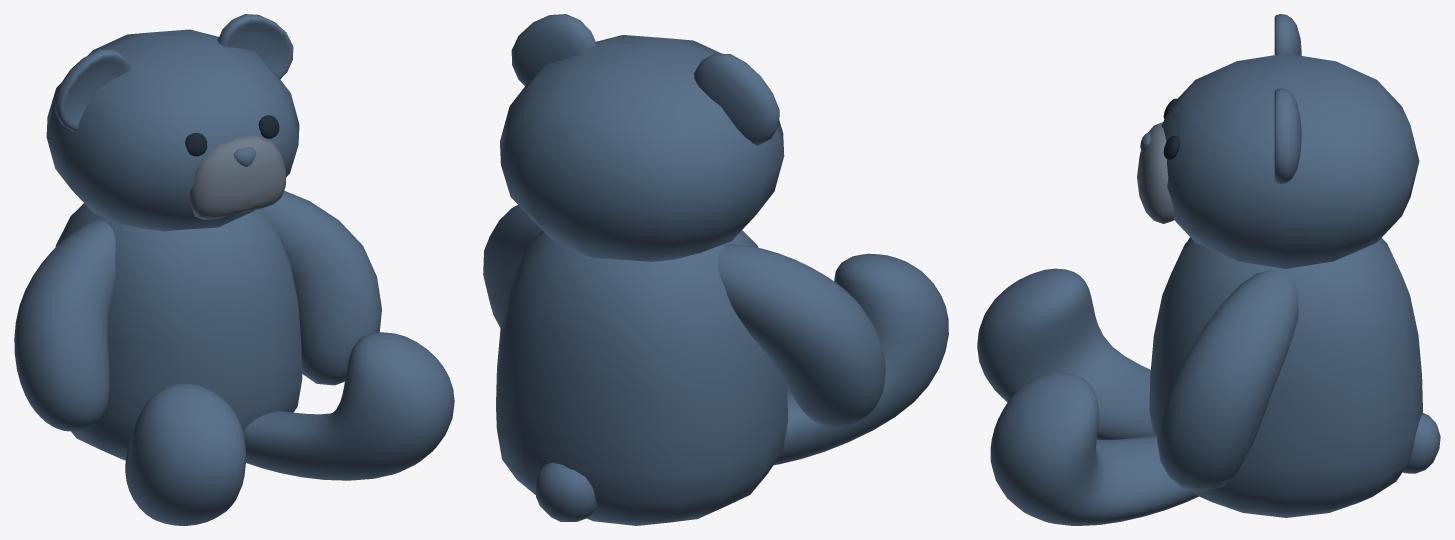
The model's file is teddyBearAnimation.fbx.
3 renders of one model, left to right at view 1: azimuth 30°, elevation 25°; view 2: azimuth 150°, elevation 25°; view 3: azimuth 270°, elevation 25°, orthographic. The views are drawn at different scales.
Parts seen in each view (by area): view 1: teddy_bear_body, teddy_bear_head, teddy_bear_leg2, teddy_bear_arm1, teddy_bear_leg1, teddy_bear_arm2, teddy_bear_snout, teddy_bear_ear1, teddy_bear_ear2; view 2: teddy_bear_body, teddy_bear_head, teddy_bear_arm1, teddy_bear_leg1, teddy_bear_ear1, teddy_bear_ear2, teddy_bear_arm2, teddy_bear_tail; view 3: teddy_bear_body, teddy_bear_head, teddy_bear_leg2, teddy_bear_arm2, teddy_bear_leg1, teddy_bear_snout, teddy_bear_ear2, teddy_bear_tail, teddy_bear_ear1.
Part boxes in pixels (<box>): teddy_bear_body: <box>55,203,302,460</box>; teddy_bear_head: <box>46,29,299,231</box>; teddy_bear_leg2: <box>243,332,454,480</box>; teddy_bear_arm1: <box>14,220,115,431</box>; teddy_bear_leg1: <box>125,383,246,525</box>; teddy_bear_arm2: <box>263,190,381,385</box>; teddy_bear_snout: <box>189,135,286,219</box>; teddy_bear_ear1: <box>55,49,131,131</box>; teddy_bear_ear2: <box>217,14,293,79</box>; teddy_bear_body: <box>496,230,787,525</box>; teddy_bear_head: <box>500,35,784,261</box>; teddy_bear_arm1: <box>717,244,885,427</box>; teddy_bear_leg1: <box>774,253,948,464</box>; teddy_bear_ear1: <box>694,53,779,145</box>; teddy_bear_ear2: <box>511,14,596,85</box>; teddy_bear_arm2: <box>483,205,542,327</box>; teddy_bear_tail: <box>535,462,596,521</box>; teddy_bear_body: <box>1149,238,1422,517</box>; teddy_bear_head: <box>1161,54,1419,268</box>; teddy_bear_leg2: <box>990,372,1198,525</box>; teddy_bear_arm2: <box>1157,270,1298,492</box>; teddy_bear_leg1: <box>977,268,1153,439</box>; teddy_bear_snout: <box>1137,122,1173,223</box>; teddy_bear_ear2: <box>1274,88,1301,184</box>; teddy_bear_tail: <box>1403,413,1440,473</box>; teddy_bear_ear1: <box>1274,14,1301,55</box>.
Size of the model in its own units: 0.078 by 0.0885 by 0.085.
